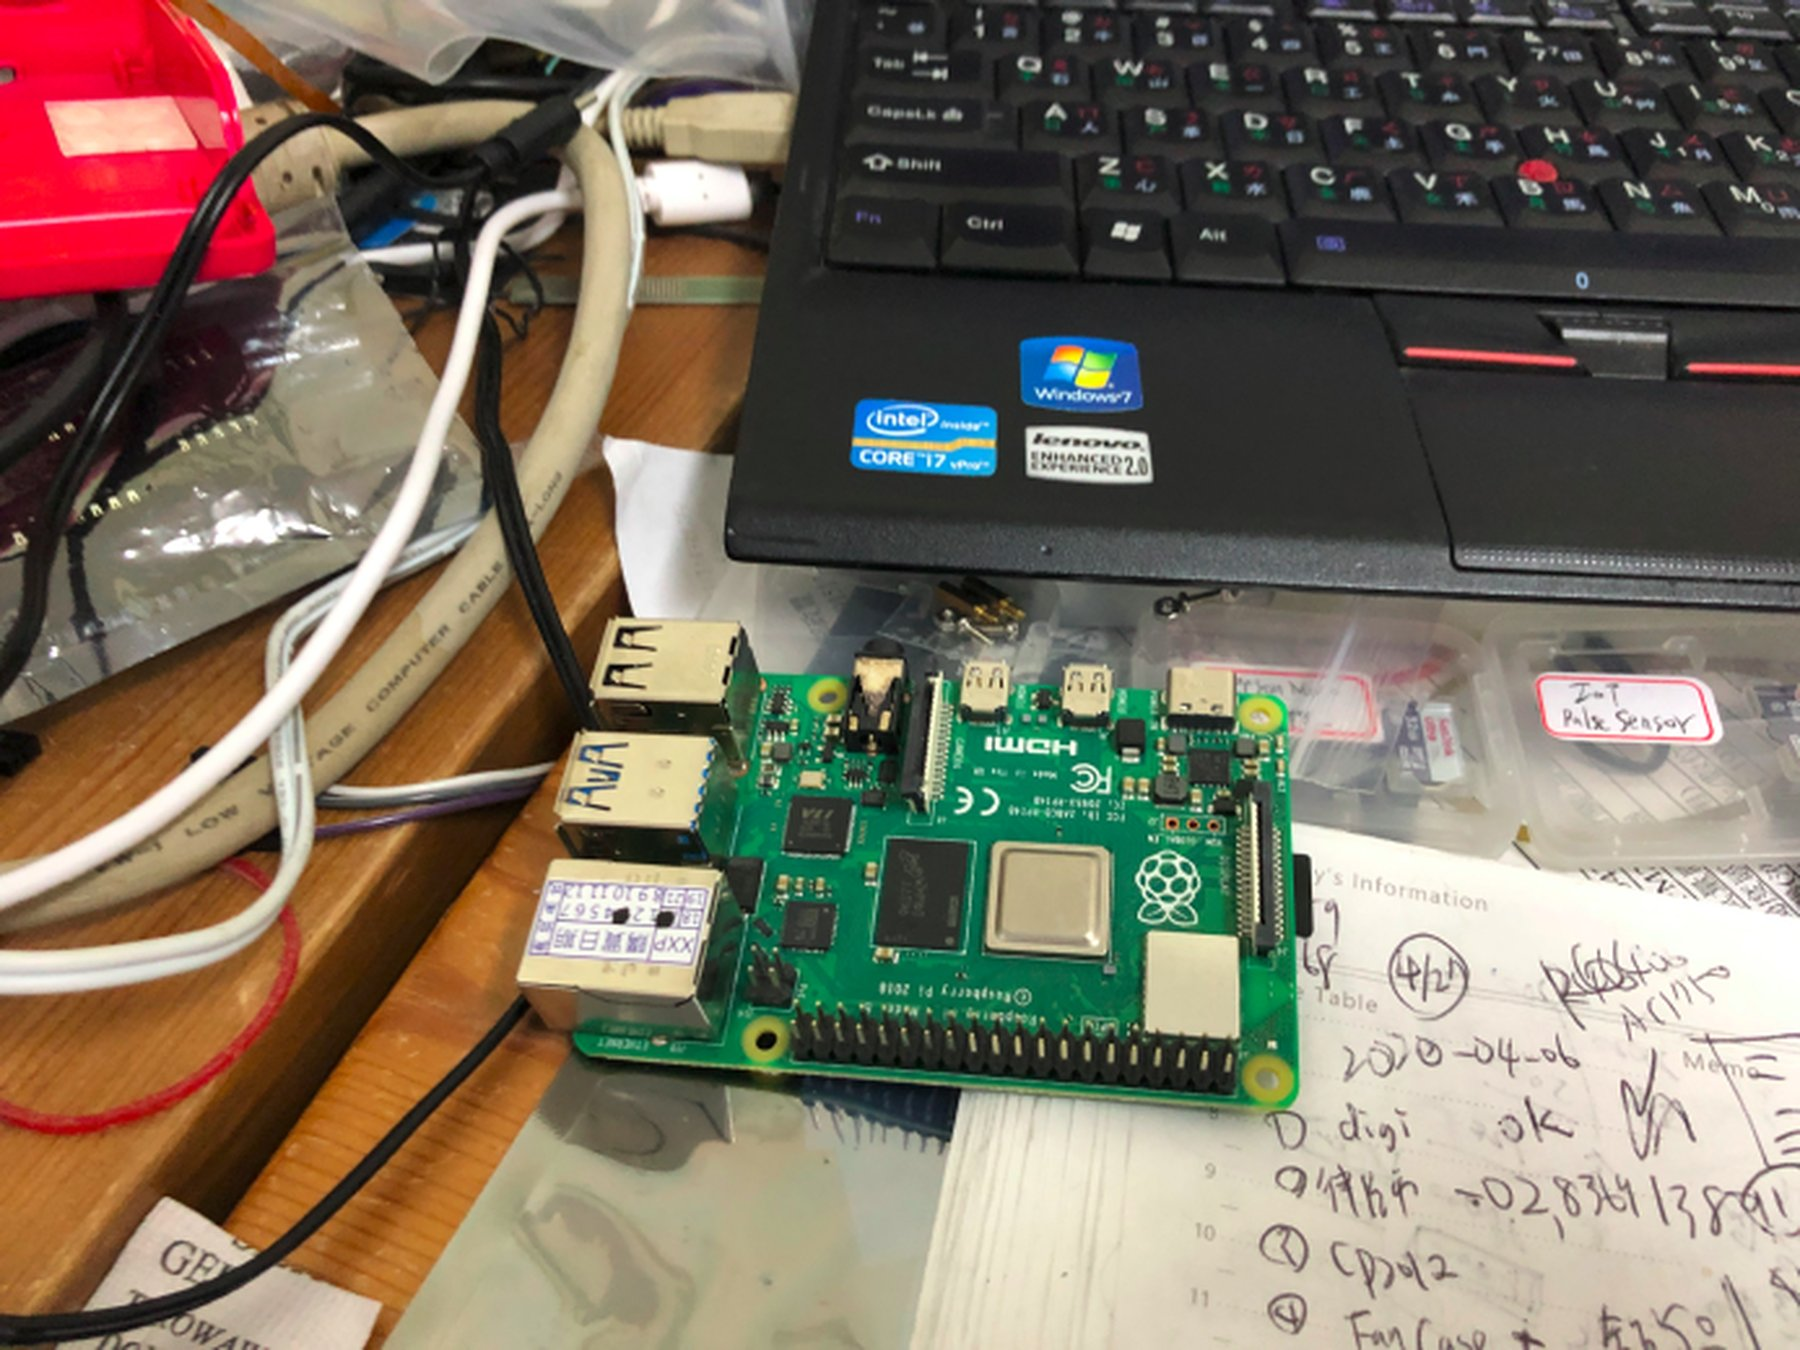pi: (507, 610, 1320, 1127)
